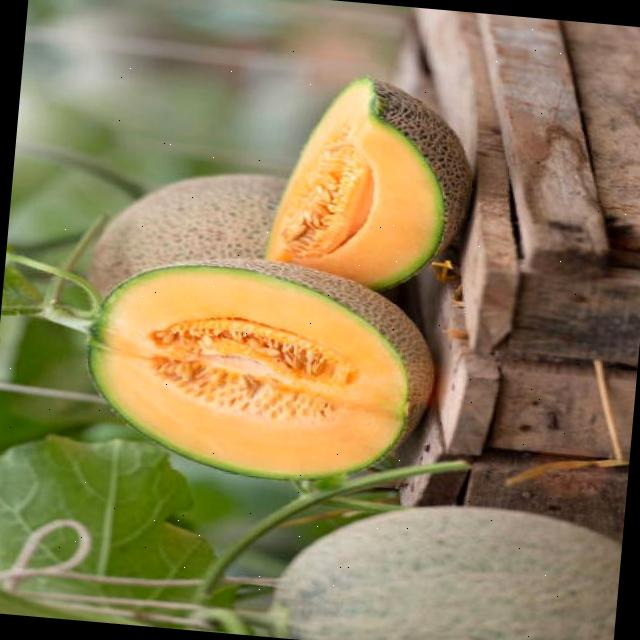Hami Melon: (79, 246, 442, 489), (251, 72, 488, 302), (259, 492, 623, 640), (86, 158, 305, 312)
